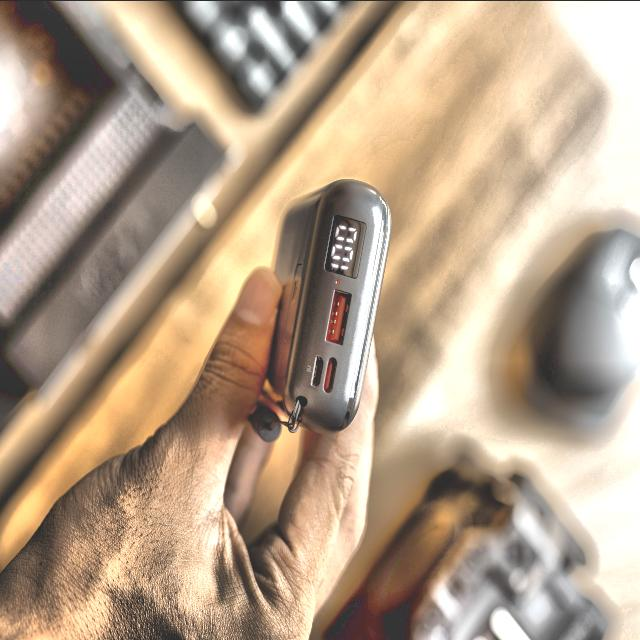Power bank: (268, 179, 391, 433)
